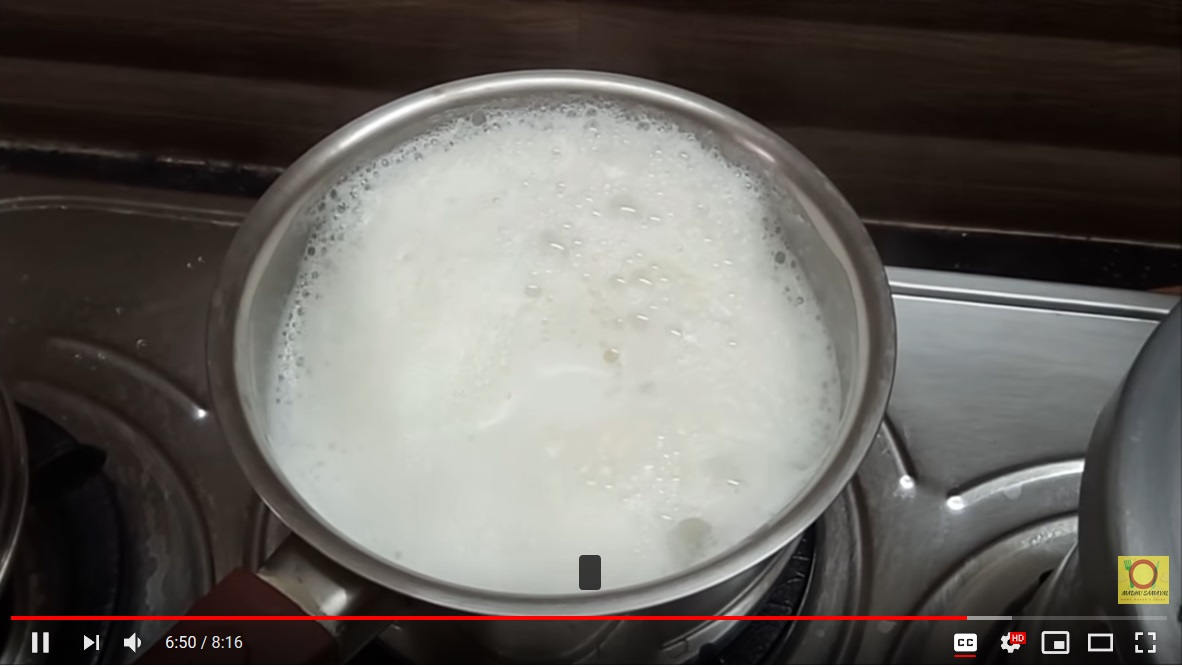Boiled: (174, 68, 897, 597)
